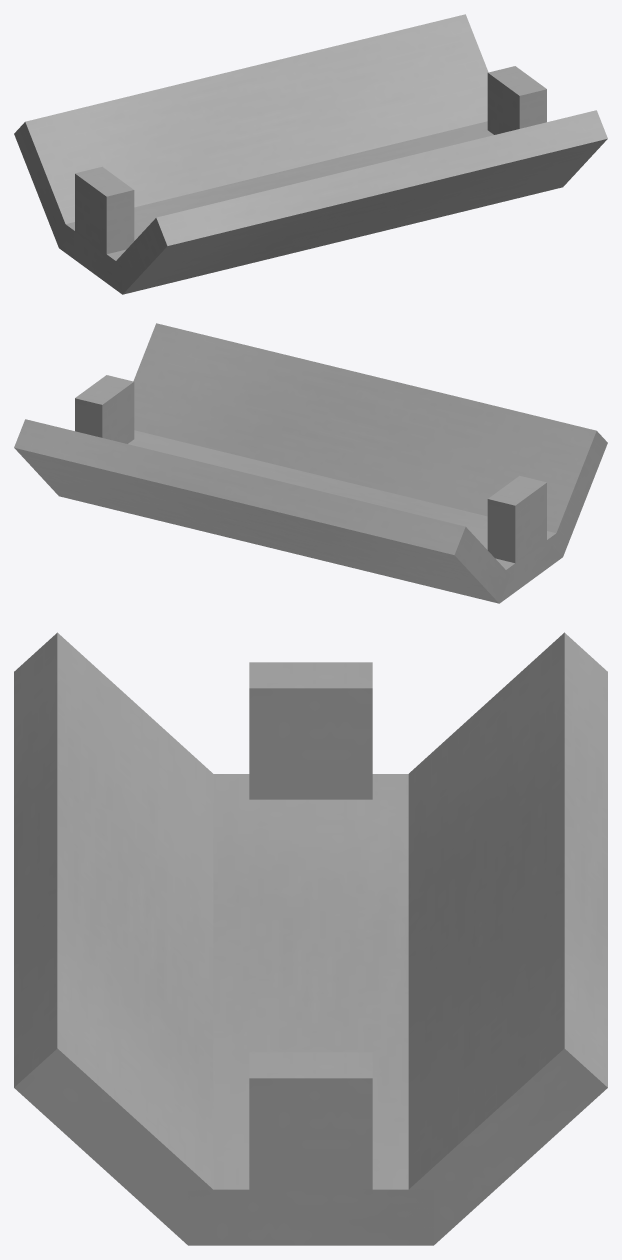
File: fluorescent_light_flock_base.obj
3 renders of one model, top to bottom at view 1: azimuth 30°, elevation 25°; view 2: azimuth 150°, elevation 25°; view 3: azimuth 270°, elevation 25°, orthographic. The views are drawn at different scales.
Parts seen in each view (by area): view 1: 3, 4, 0, 1, 2; view 2: 4, 3, 0, 1, 2; view 3: 4, 3, 0, 1, 2.
Boxes of the visible parts, x1,y1,x2,y2 form: 3: [14, 14, 488, 247]; 4: [116, 110, 607, 294]; 0: [59, 121, 493, 294]; 1: [75, 166, 134, 254]; 2: [487, 66, 546, 134]; 4: [133, 323, 607, 556]; 3: [14, 419, 510, 603]; 0: [128, 430, 562, 603]; 1: [487, 475, 546, 563]; 2: [75, 375, 134, 443]; 4: [14, 632, 230, 1244]; 3: [392, 632, 607, 1244]; 0: [188, 774, 433, 1245]; 1: [249, 662, 372, 799]; 2: [249, 1052, 372, 1189].
Bounding box in the file's own units: 16 × 3.54 × 9.66.
